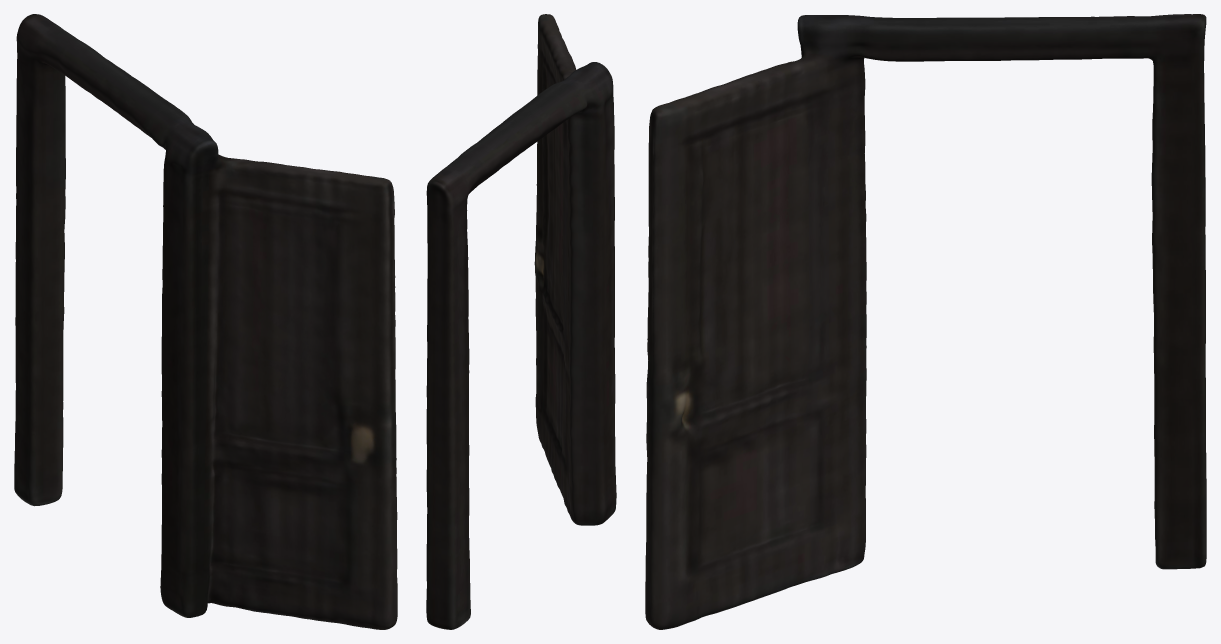
The model's file is e96164d9f8da_open_door__3d_asset.fbx.
3 views of the same model, side by side, from view 1: azimuth 30°, elevation 25°; view 2: azimuth 150°, elevation 25°; view 3: azimuth 270°, elevation 25° (orthographic). The views are drawn at different scales.
Visible parts, largest first — view 1: high_poly; view 2: high_poly; view 3: high_poly.
Part boxes in pixels (left/top/right/bottom): high_poly: left=14, top=14, right=397, bottom=629; high_poly: left=426, top=14, right=616, bottom=629; high_poly: left=645, top=14, right=1206, bottom=629.
Bounding box in the file's own units: 33.68 × 100 × 92.22.
